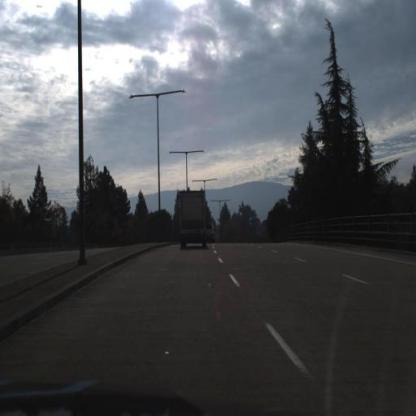car: (206, 222, 217, 243)
truck: (179, 190, 207, 251)
